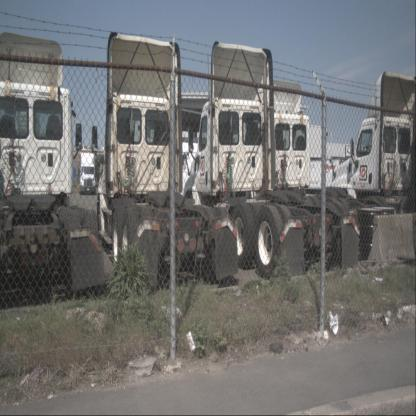movable_object-trafficcone: (77, 184, 79, 193)
vehicle-truck: (95, 29, 240, 286), (182, 39, 334, 279), (1, 29, 107, 296), (267, 77, 379, 269), (330, 68, 416, 262), (78, 150, 96, 196)
